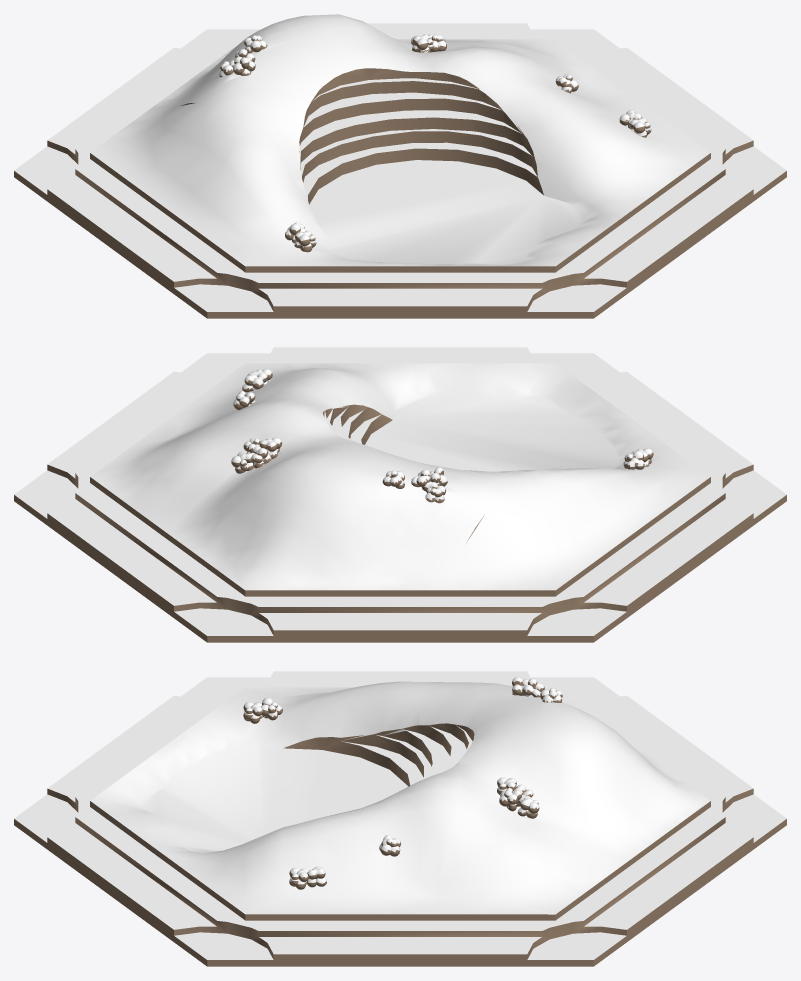
File: hex_arcilla.glb
The picture shows the model from 3 angles, top to bottom: view 1: azimuth 30°, elevation 25°; view 2: azimuth 150°, elevation 25°; view 3: azimuth 270°, elevation 25°; orthographic projection.
Visible parts, largest first — view 1: Top, Side; view 2: Top, Side; view 3: Top, Side.
Part boxes in pixels (x1=…): Top: x1=14, y1=14, x2=786, y2=311; Side: x1=14, y1=37, x2=786, y2=318; Top: x1=14, y1=347, x2=786, y2=635; Side: x1=14, y1=373, x2=786, y2=642; Top: x1=14, y1=671, x2=786, y2=959; Side: x1=14, y1=681, x2=786, y2=966.
Size of the model in its own units: 156 by 26.42 by 180.
